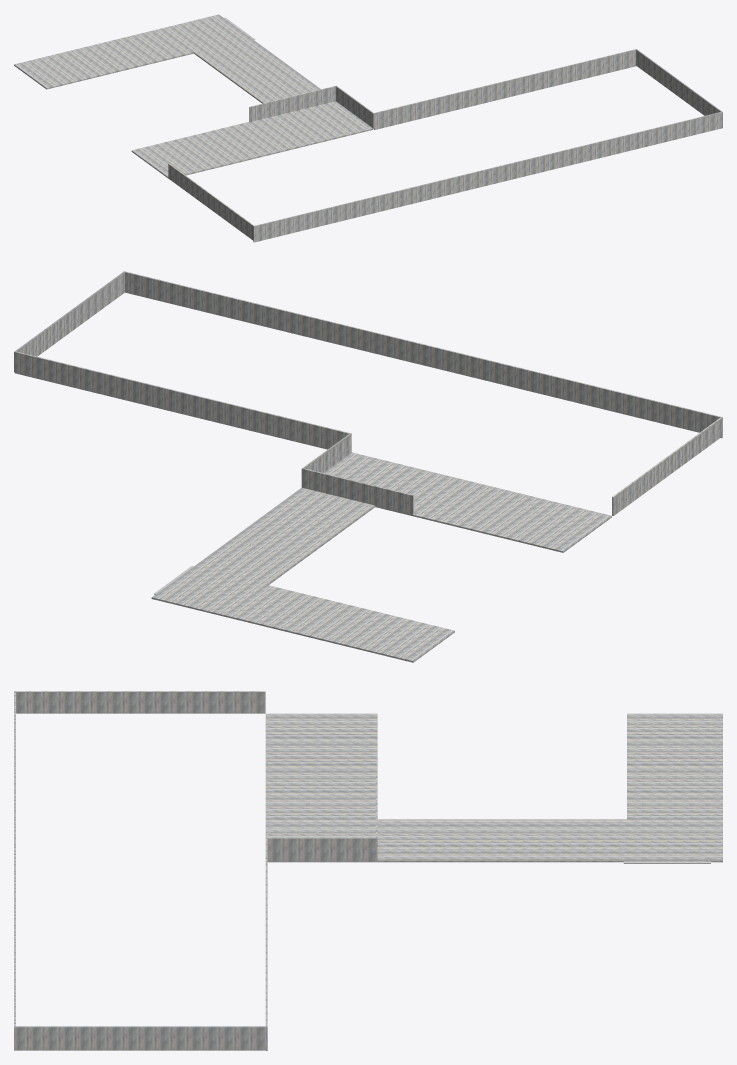
File: Boardwalk.obj
3 renders of one model, top to bottom at view 1: azimuth 30°, elevation 25°; view 2: azimuth 150°, elevation 25°; view 3: azimuth 270°, elevation 25°, orthographic. The views are drawn at different scales.
Visible parts, largest first — view 1: BoardwalkMain1; view 2: BoardwalkMain1; view 3: BoardwalkMain1.
Boxes of the visible parts, x1,y1,x2,y2 form: BoardwalkMain1: (14, 14, 722, 242); BoardwalkMain1: (14, 271, 722, 662); BoardwalkMain1: (14, 691, 722, 1050).
Bounding box in the file's own units: 398 × 13.5 × 355.
